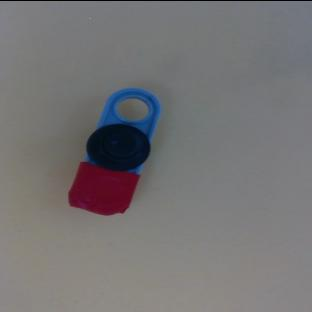part_1_good: (63, 77, 170, 225)
